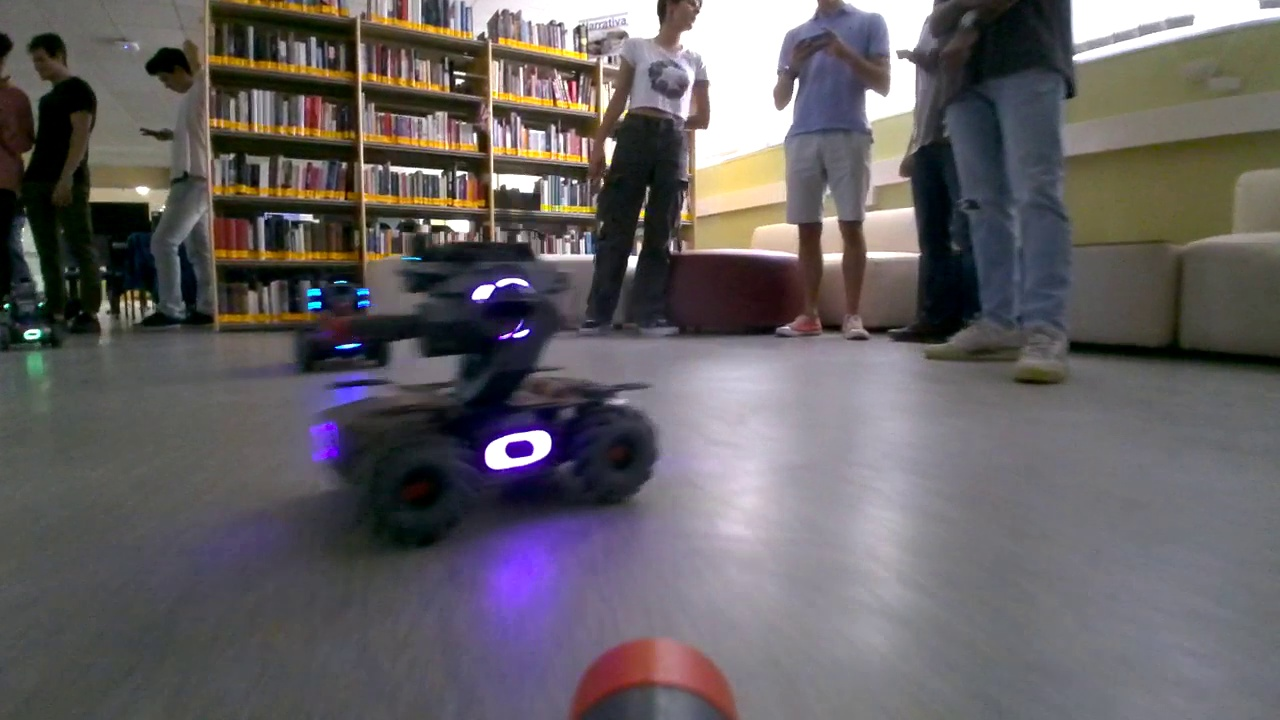robot: (317, 241, 663, 553), (290, 279, 392, 374), (2, 272, 67, 362)
